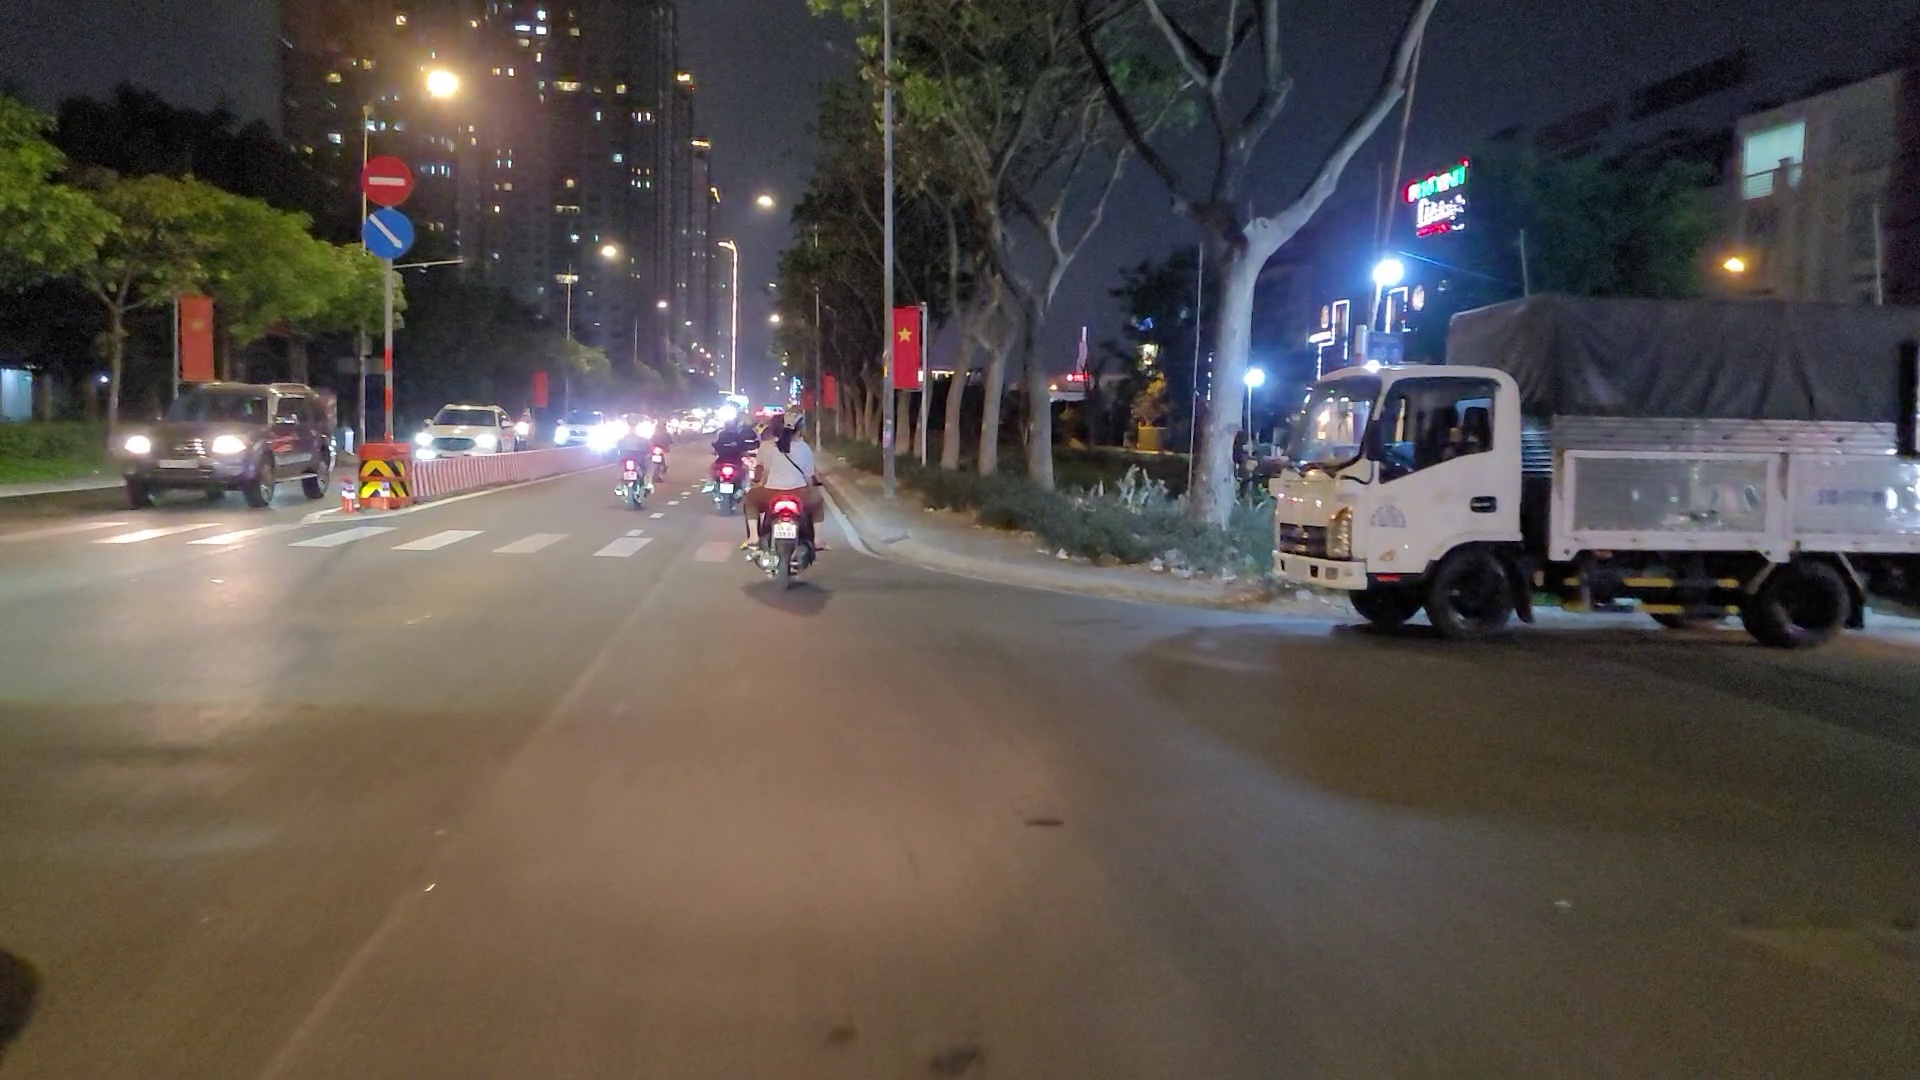Cam di nguoc chieu: (360, 156, 411, 206)
Huong di phai re phai: (364, 208, 411, 256)
